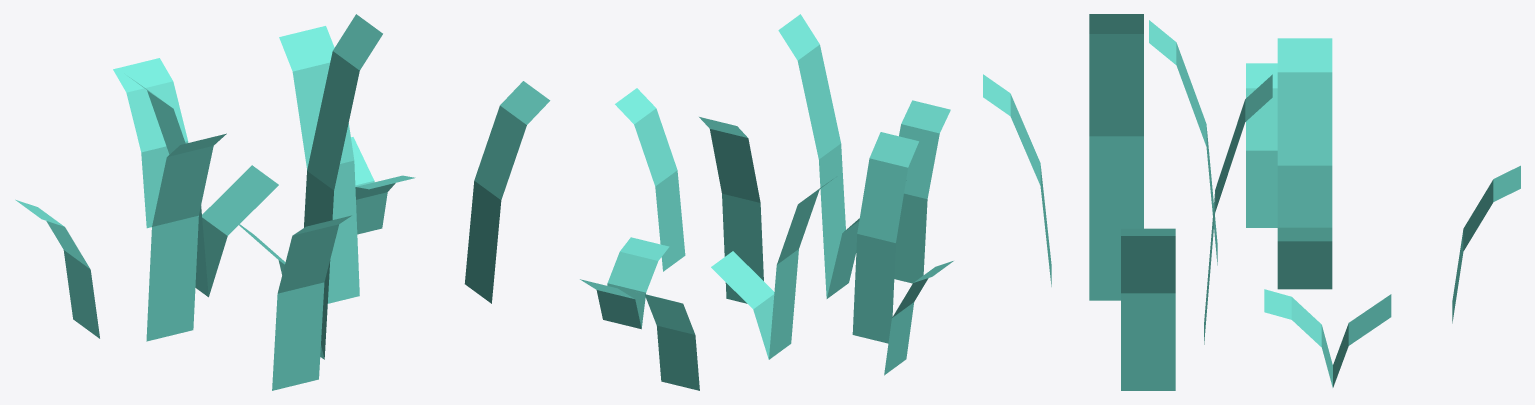
Rendered from grass.glb.
3 views of the same model, side by side, from view 1: azimuth 30°, elevation 25°; view 2: azimuth 150°, elevation 25°; view 3: azimuth 270°, elevation 25° (orthographic). The views are drawn at different scales.
Visible parts, largest first — view 1: grass; view 2: grass; view 3: grass.
Boxes of the visible parts, x1=… form: grass: x1=15, y1=14, x2=550, y2=390; grass: x1=580, y1=14, x2=953, y2=390; grass: x1=983, y1=14, x2=1520, y2=390.
Size of the model in its own units: 0.3811 by 0.254 by 0.3922.
